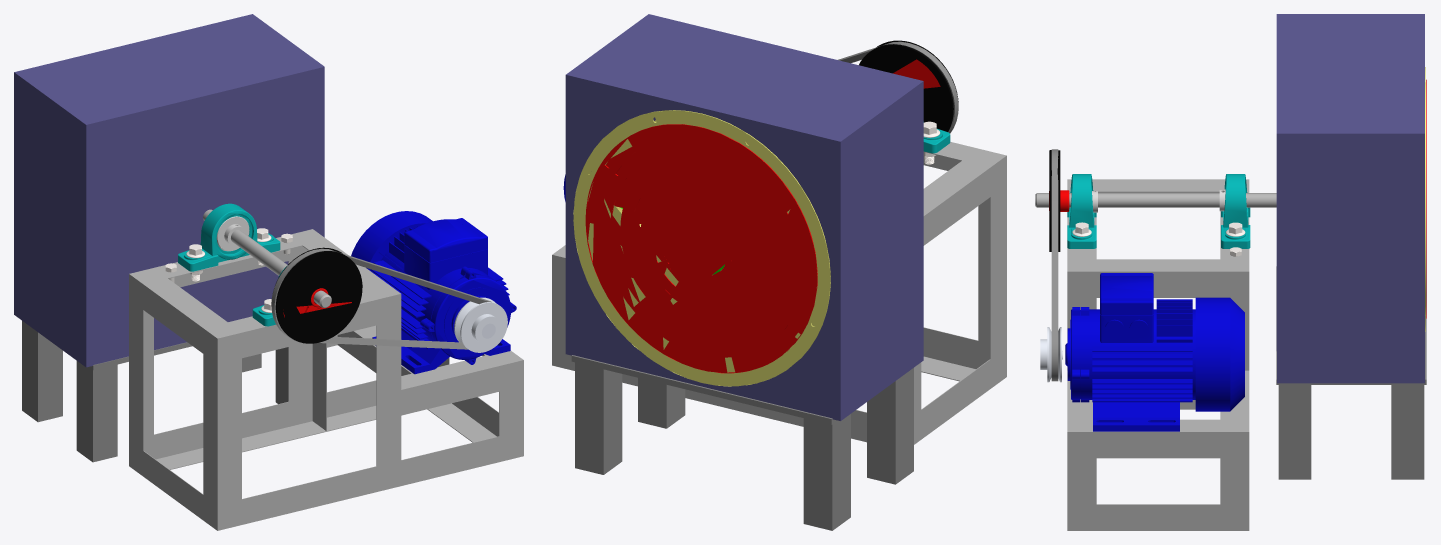
File: belt drive system.fbx
3 views of the same model, side by side, from view 1: azimuth 30°, elevation 25°; view 2: azimuth 150°, elevation 25°; view 3: azimuth 270°, elevation 25° (orthographic). The views are drawn at different scales.
Visible parts, largest first — view 1: Heating vent fan enclosure, Rangka Bawang, Motor Assembly 2, Stands for heat exch sys, Pulley Poros Screw, Belt1-1^Mesin Pengiris Bawang Mini, Housing, Pulli, Ass, Inner race; view 2: Heating vent fan enclosure, Fan_Model, Rangka Bawang, Stands for heat exch sys, Fan_Model001, Pulley Poros Screw, Belt1-1^Mesin Pengiris Bawang Mini; view 3: Heating vent fan enclosure, Rangka Bawang, Motor Assembly 2, Stands for heat exch sys, Ass, Belt1-1^Mesin Pengiris Bawang Mini, Housing, Housing.001, Pulley Poros Screw, Pulli.
Part boxes in pixels (<box>): Heating vent fan enclosure: <box>14,14,324,367</box>; Rangka Bawang: <box>129,229,523,530</box>; Motor Assembly 2: <box>351,211,516,374</box>; Stands for heat exch sys: <box>22,321,288,462</box>; Pulley Poros Screw: <box>274,247,362,343</box>; Belt1-1^Mesin Pengiris Bawang Mini: <box>271,248,491,349</box>; Housing: <box>178,203,280,271</box>; Pulli: <box>454,297,507,352</box>; Ass: <box>203,209,331,307</box>; Inner race: <box>216,216,249,251</box>; Heating vent fan enclosure: <box>565,14,923,420</box>; Fan_Model: <box>585,124,817,373</box>; Rangka Bawang: <box>552,142,1006,444</box>; Stands for heat exch sys: <box>571,355,913,530</box>; Fan_Model001: <box>573,110,830,386</box>; Pulley Poros Screw: <box>859,40,958,131</box>; Belt1-1^Mesin Pengiris Bawang Mini: <box>838,41,958,133</box>; Heating vent fan enclosure: <box>1276,14,1424,383</box>; Rangka Bawang: <box>1067,179,1249,530</box>; Motor Assembly 2: <box>1062,273,1244,431</box>; Stands for heat exch sys: <box>1276,266,1426,479</box>; Ass: <box>1035,193,1276,207</box>; Belt1-1^Mesin Pengiris Bawang Mini: <box>1051,149,1058,381</box>; Housing: <box>1221,174,1250,248</box>; Housing.001: <box>1067,174,1096,248</box>; Pulley Poros Screw: <box>1049,150,1069,251</box>; Pulli: <box>1040,327,1061,382</box>.
Bounding box in the file's own units: 76.75 × 74.22 × 75.35.
